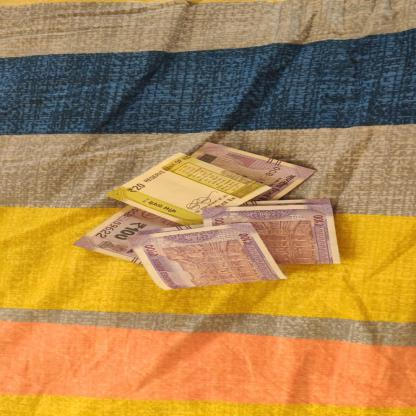New100Back: (126, 224, 288, 290), (200, 198, 342, 265)
New100Front: (71, 141, 318, 266)
New20Back: (105, 152, 273, 226)
